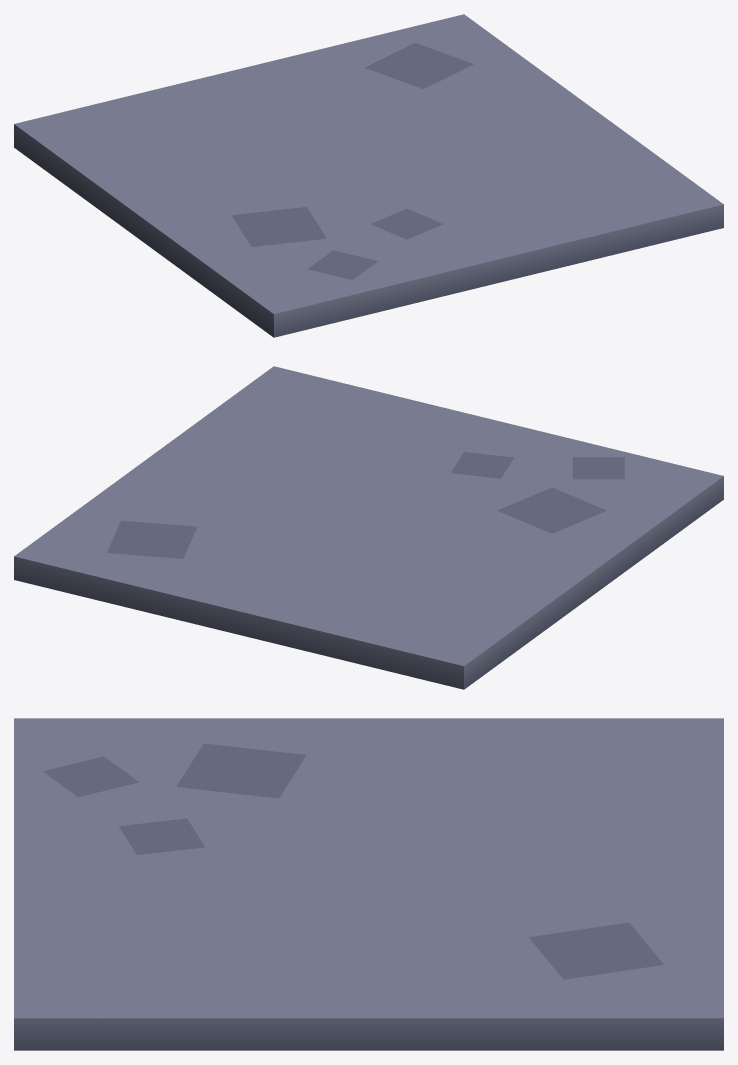
Rendered from sidewalk.glb.
3 renders of one model, top to bottom at view 1: azimuth 30°, elevation 25°; view 2: azimuth 150°, elevation 25°; view 3: azimuth 270°, elevation 25°, orthographic. The views are drawn at different scales.
Parts seen in each view (by area): view 1: pavement; view 2: pavement; view 3: pavement.
Boxes of the visible parts, x1,y1,x2,y2 form: pavement: (14, 14, 723, 337); pavement: (14, 366, 723, 689); pavement: (14, 718, 723, 1050).
Size of the model in its own units: 1 by 0.0599 by 1.
Materials: 1 (1 with a texture image).
